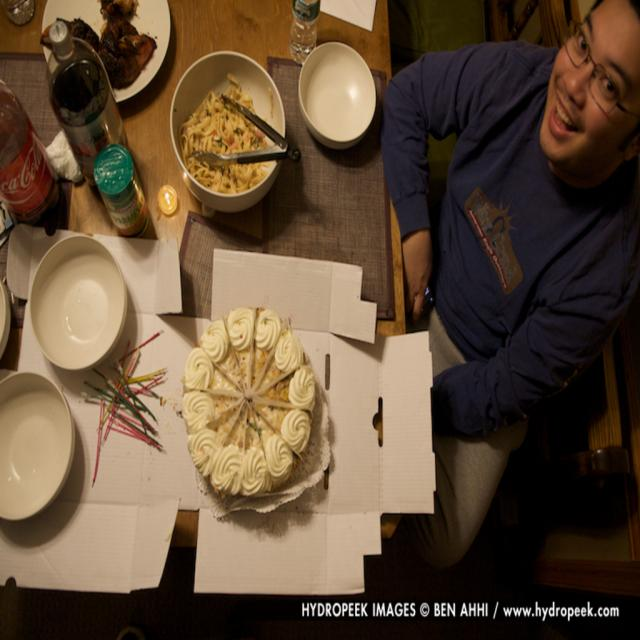non-organic waste: (22, 235, 129, 373), (2, 353, 81, 537), (297, 43, 376, 160)
